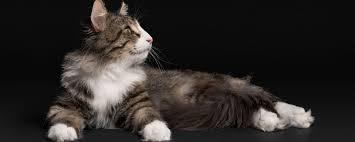animals: (42, 0, 339, 142)
